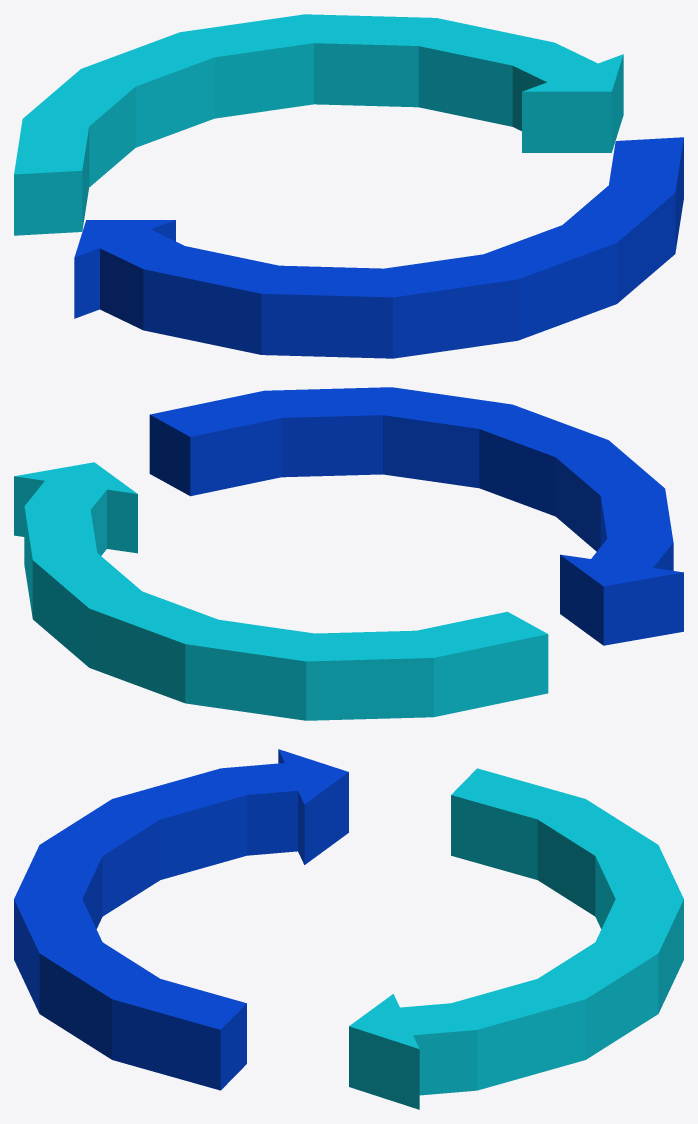
Rendered from marker_rotation.glb.
3 views of the same model, one above another, from view 1: azimuth 30°, elevation 25°; view 2: azimuth 150°, elevation 25°; view 3: azimuth 270°, elevation 25° (orthographic). The views are drawn at different scales.
Visible parts, largest first — view 1: Cylinder, Cylinder.001; view 2: Cylinder, Cylinder.001; view 3: Cylinder, Cylinder.001.
Part boxes in pixels (x1,y1,x2,y2): Cylinder: (74,137,683,358); Cylinder.001: (14,14,623,235); Cylinder: (149,387,683,645); Cylinder.001: (14,462,548,720); Cylinder: (14,749,348,1090); Cylinder.001: (349,768,683,1109).
Bounding box in the file's own units: 2.12 × 0.2 × 2.
